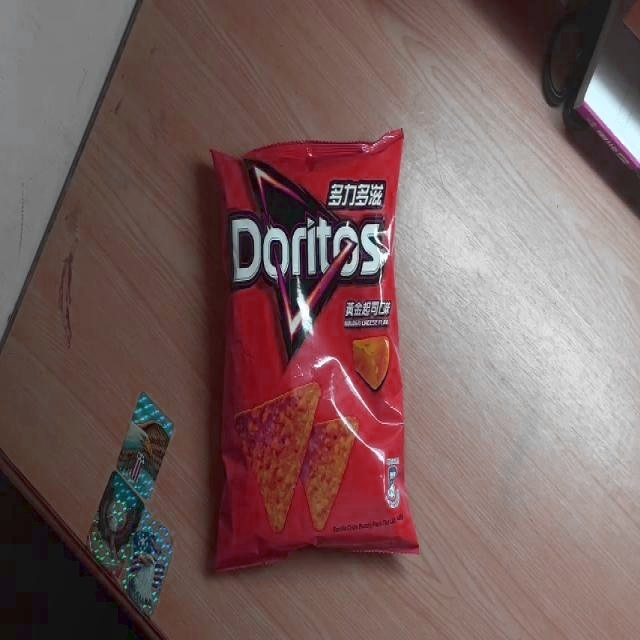Doritos: (204, 126, 418, 573)
